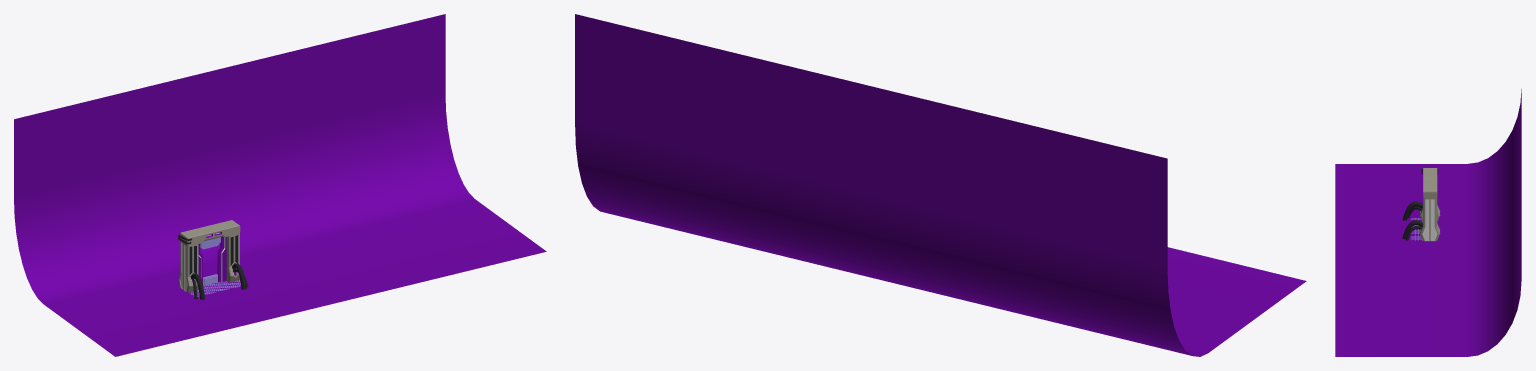
File: ASSETS PUERTAS 2.fbx
The picture shows the model from 3 angles, left to right: view 1: azimuth 30°, elevation 25°; view 2: azimuth 150°, elevation 25°; view 3: azimuth 270°, elevation 25°; orthographic projection. The views are drawn at different scales.
Parts seen in each view (by area): view 1: Plane.004, Cube, Plane; view 2: Plane.004; view 3: Plane.004, Cube.
Part boxes in pixels (left/top/right/bottom): Plane.004: left=14, top=14, right=546, bottom=356; Cube: left=178, top=220, right=240, bottom=292; Plane: left=198, top=236, right=226, bottom=283; Plane.004: left=575, top=14, right=1306, bottom=356; Plane.004: left=1335, top=89, right=1521, bottom=356; Cube: left=1420, top=168, right=1440, bottom=241.
Size of the model in its own units: 2869 by 1186 by 1168.
